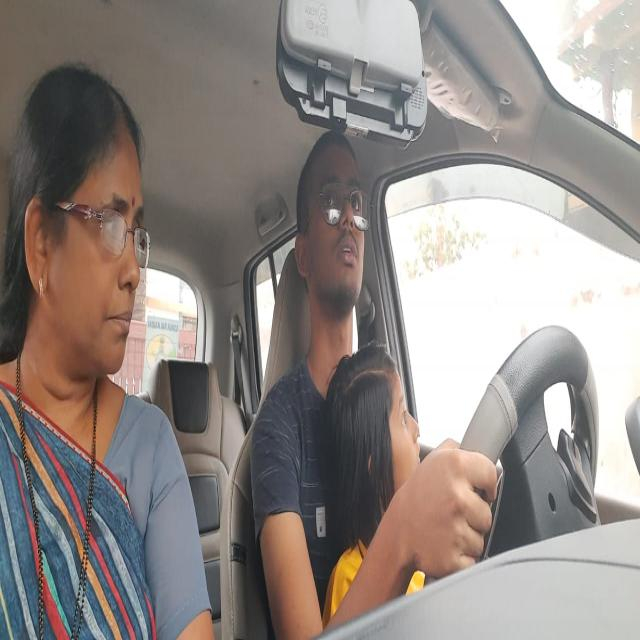child: (322, 340, 430, 535)
person: (0, 42, 161, 407), (293, 119, 382, 322)
